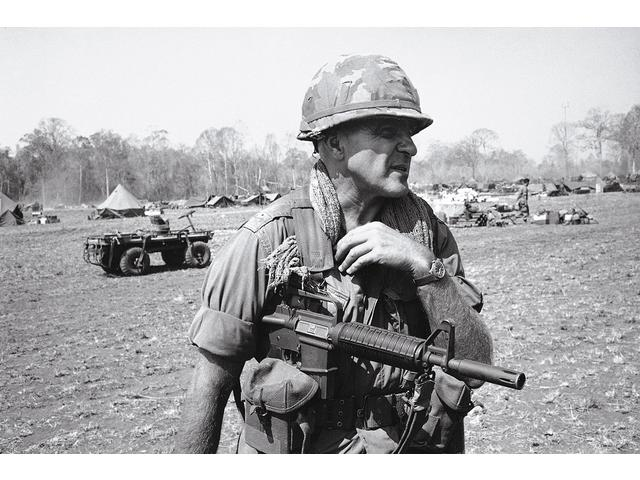rifle: (240, 281, 526, 410)
